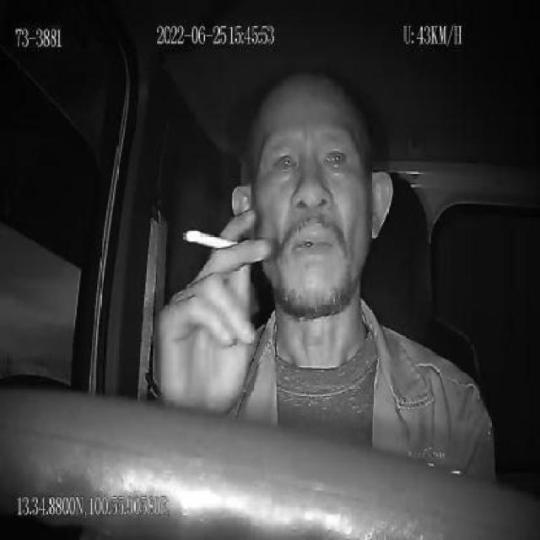smoking: (183, 227, 241, 253)
